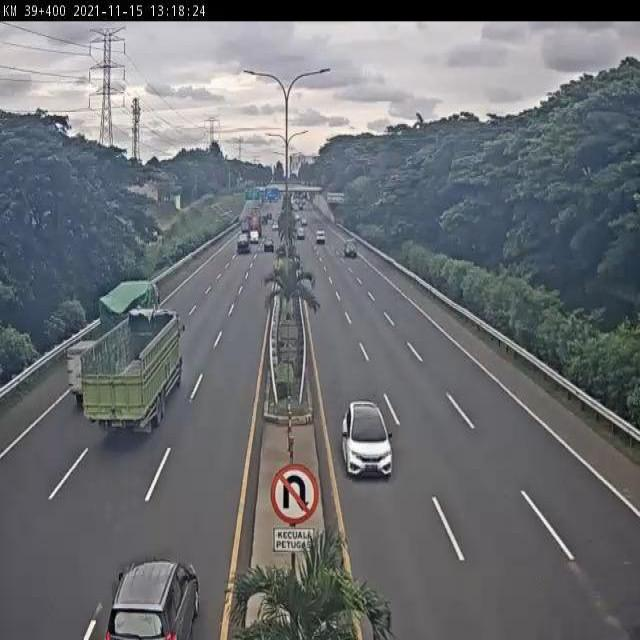car: (103, 558, 200, 640), (341, 400, 395, 481)
truck-l-: (82, 313, 182, 432)
truck-m-: (102, 278, 163, 334)
truck-s-: (63, 336, 101, 404)
